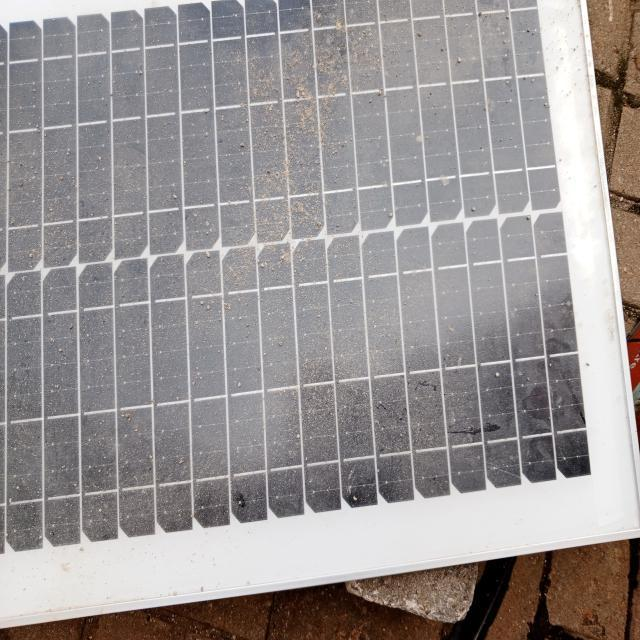Anomaly Solar Panel: (5, 16, 559, 513)
Surface Contaminant: (5, 16, 559, 513)
